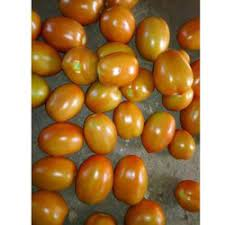spinach: (119, 153, 151, 207)
tomato: (153, 49, 197, 98), (74, 152, 115, 198), (40, 125, 87, 157), (138, 12, 170, 56), (84, 117, 121, 154), (95, 48, 136, 81), (49, 83, 84, 114), (144, 113, 172, 148), (116, 101, 135, 140)
